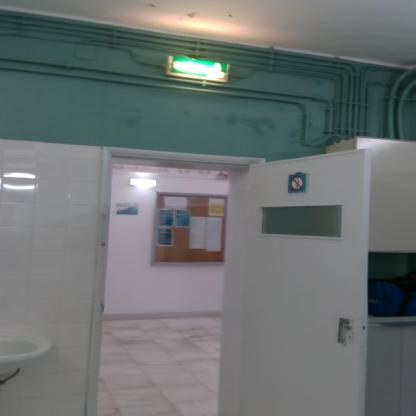open: (96, 134, 374, 416)
